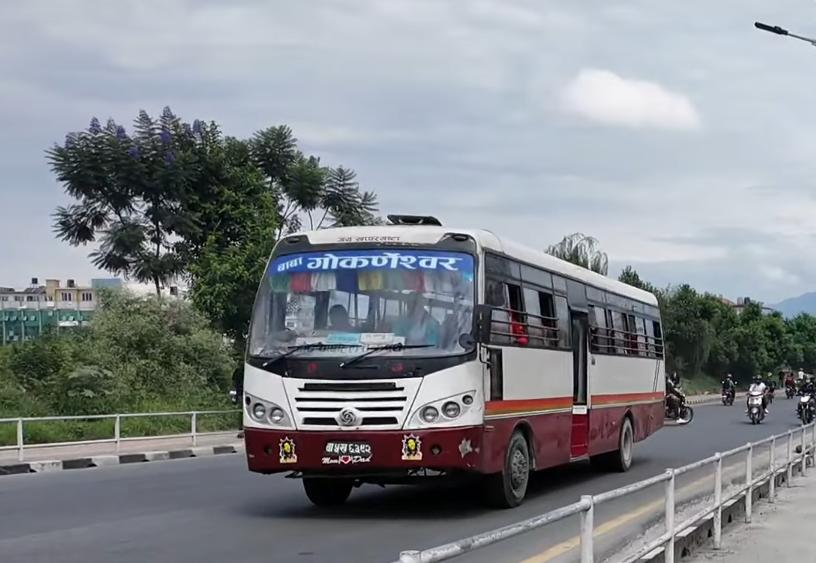bus: (237, 205, 682, 519)
